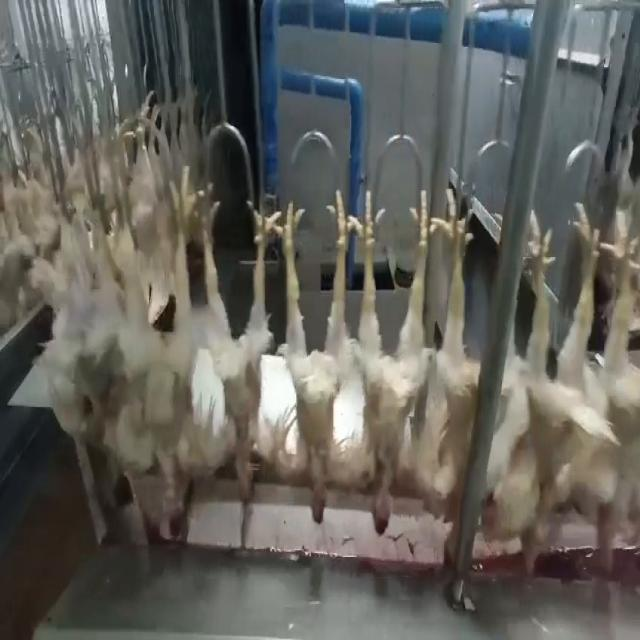chicken: (491, 198, 596, 577), (351, 188, 438, 537), (195, 190, 284, 500), (277, 182, 347, 523), (425, 192, 485, 519), (141, 191, 193, 536), (591, 207, 638, 571)
